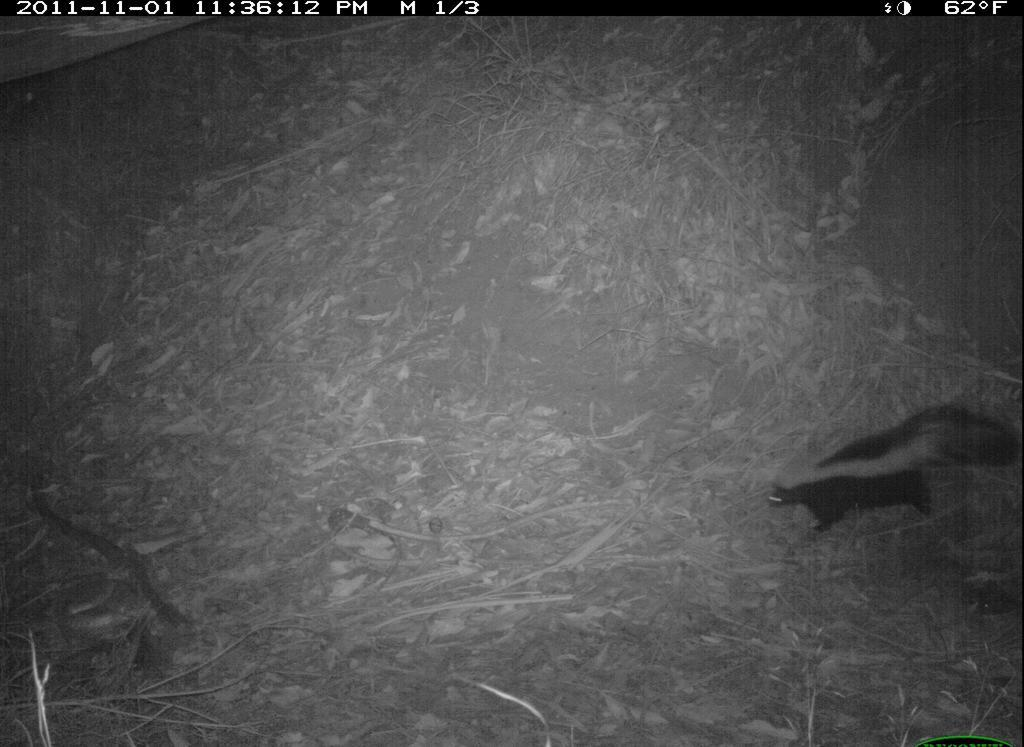skunk: (770, 409, 1019, 546)
